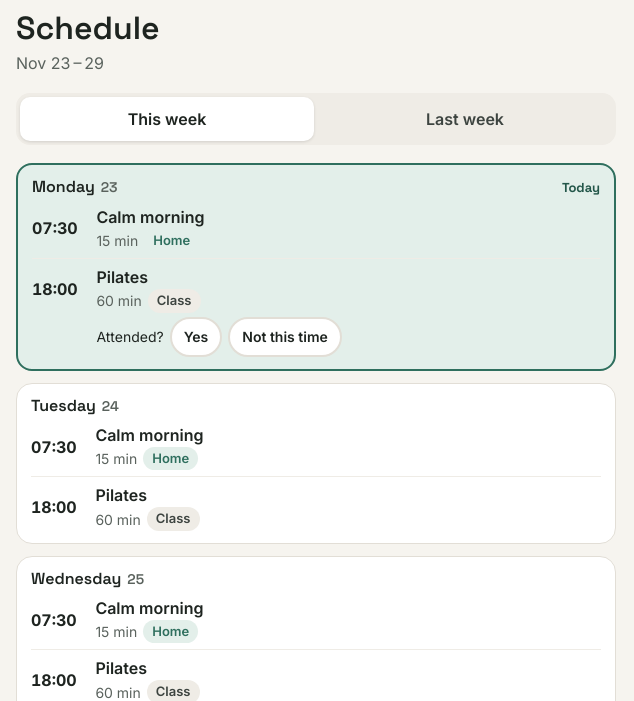
Test case: Schedule › switches to last week
Click the button "Last week" at x=465, y=119, box [318,97,612,141]
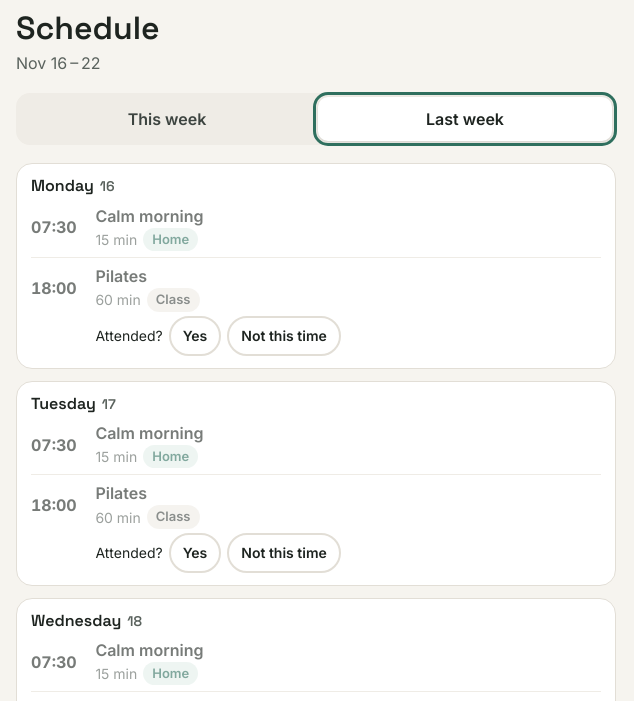
Expected: the text "Nov 16 – 22" is shown, [16,53,101,73]
